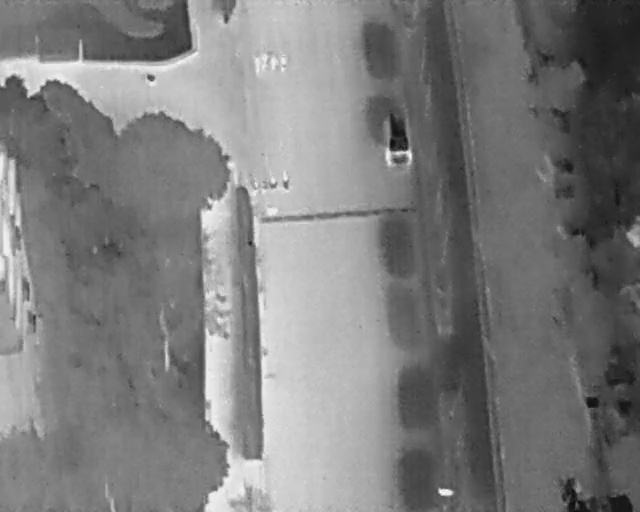Car: (381, 112, 414, 168)
Person: (281, 171, 291, 190), (279, 54, 288, 73), (270, 54, 279, 72), (250, 178, 259, 195), (255, 57, 262, 74), (262, 179, 269, 195), (270, 176, 278, 190), (262, 52, 268, 69)
